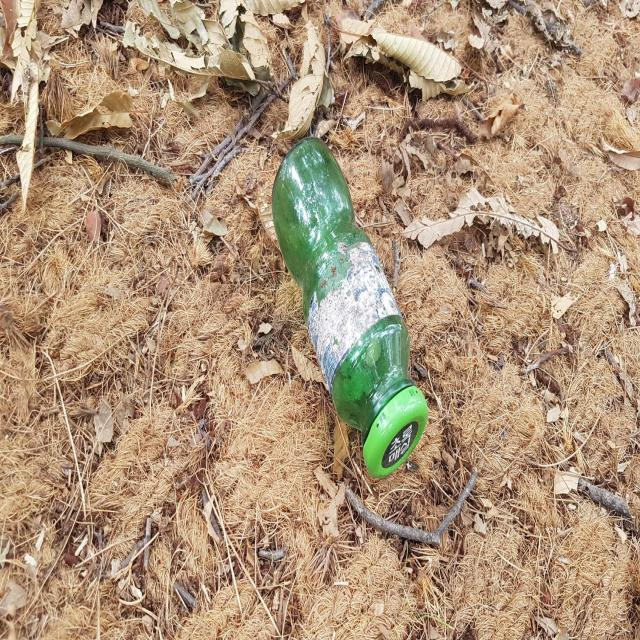glass: (272, 137, 428, 478)
